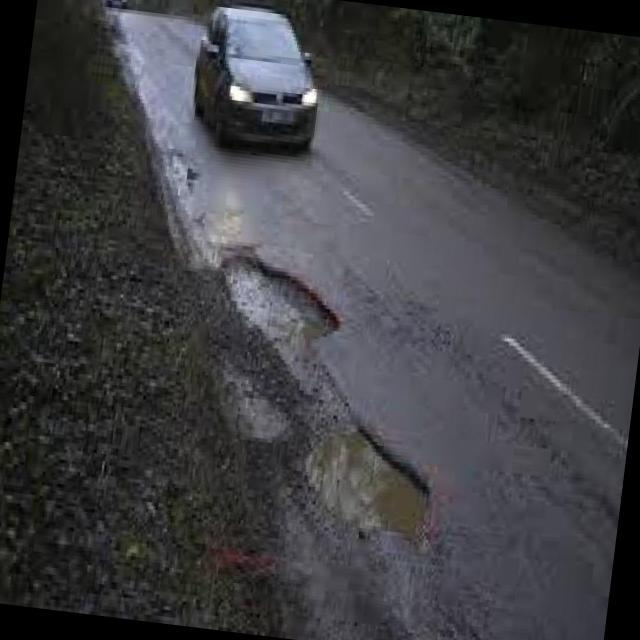Pothole: (219, 254, 431, 549)
